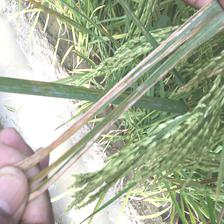2 BacterialBlight: (22, 78, 125, 156)
